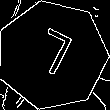L_SW: (27, 26, 78, 85)
